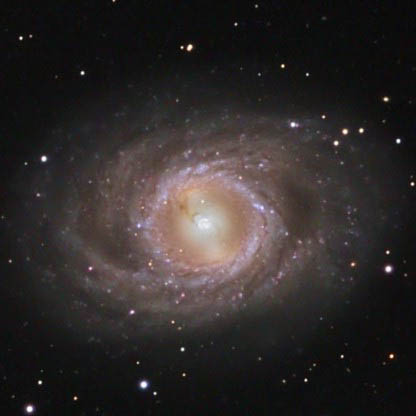Messier 95: (27, 96, 388, 342)
